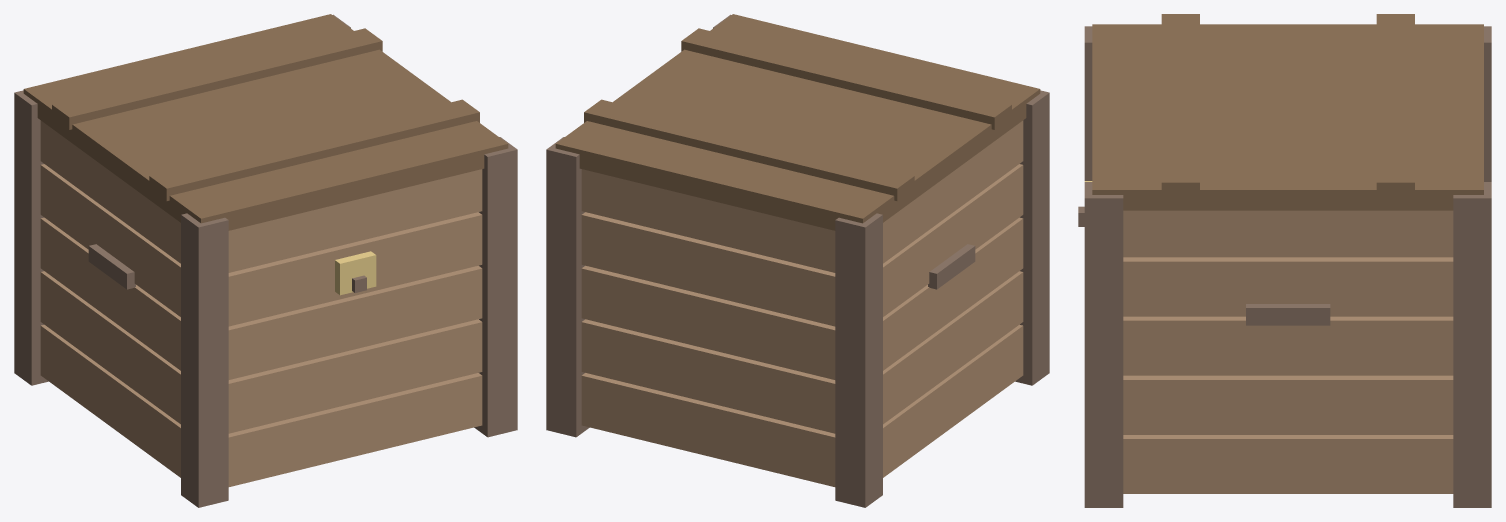
The model's file is kiste.glb.
3 renders of one model, left to right at view 1: azimuth 30°, elevation 25°; view 2: azimuth 150°, elevation 25°; view 3: azimuth 270°, elevation 25°, orthographic. The views are drawn at different scales.
Visible parts, largest first — view 1: G_kiste; view 2: G_kiste; view 3: G_kiste.
Boxes of the visible parts, box(x1,y1,x2,y2) form: G_kiste: box(14, 14, 517, 507); G_kiste: box(546, 14, 1049, 507); G_kiste: box(1078, 14, 1491, 507).
Bounding box in the file's own units: 1.06 × 0.93 × 1.08.
